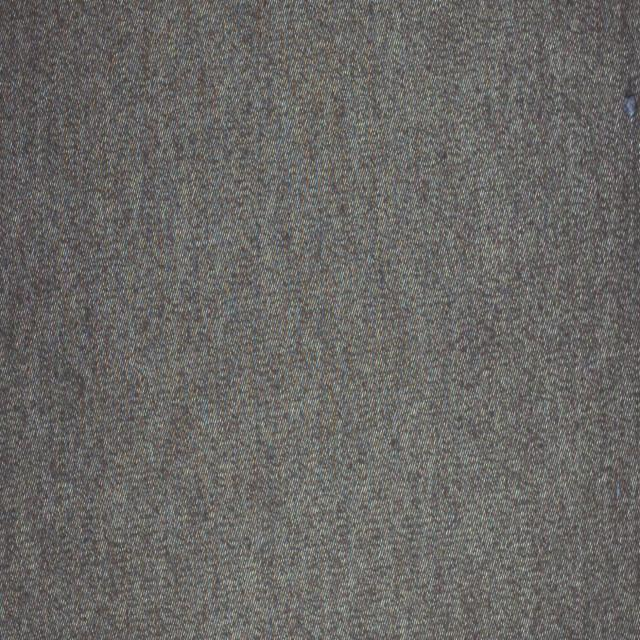Knot: (625, 94, 639, 120)
